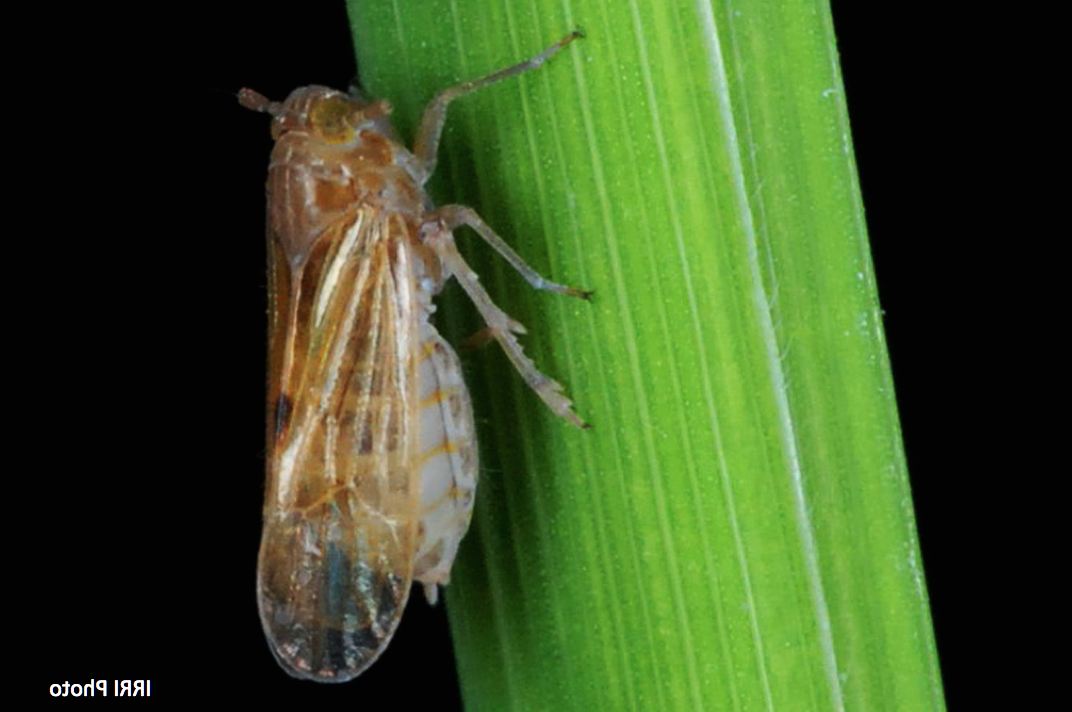Brown_hopper: (220, 56, 542, 680)
